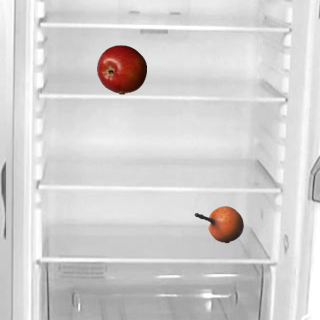Apple Braeburn: (96, 44, 146, 94)
Granadilla: (193, 199, 243, 249)
